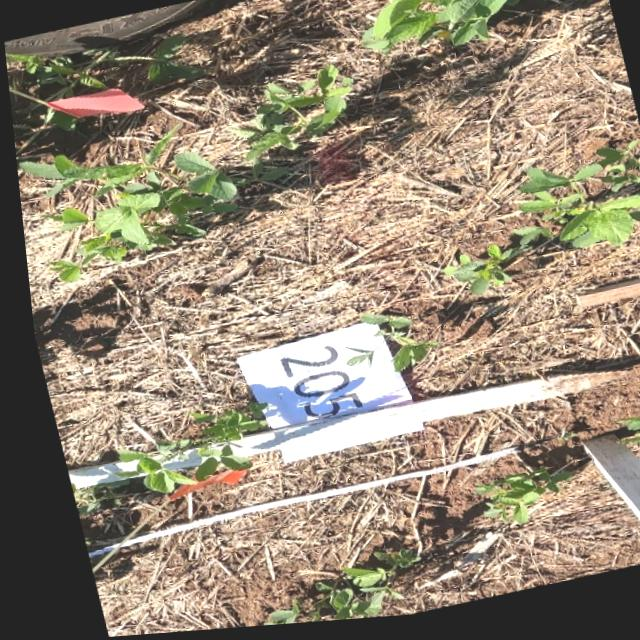grassy_weed: (5, 51, 117, 102)
soy_plant: (19, 70, 349, 284), (440, 152, 640, 301), (107, 411, 253, 503), (361, 0, 522, 58), (251, 564, 387, 628), (465, 476, 559, 531), (354, 319, 428, 376), (129, 38, 195, 85), (614, 418, 640, 459)
